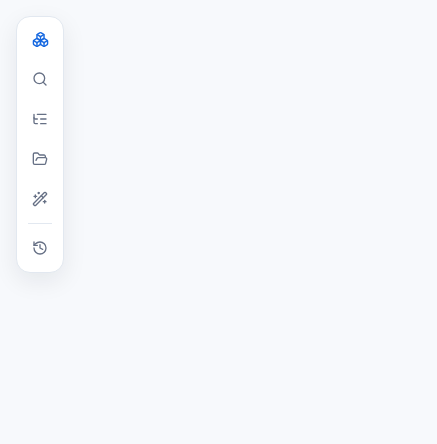
Test: CanvasWorkbench › reads trusted project resources in the current branch and links to the full library
Click the button named "生成内容": (40,159) 22,141 -> 58,177
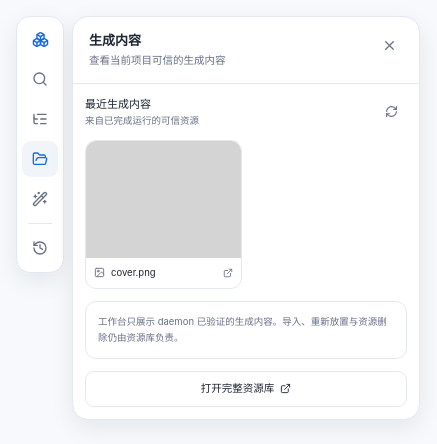
Result: the text "cover.png" is shown at 111,266 -> 156,278
